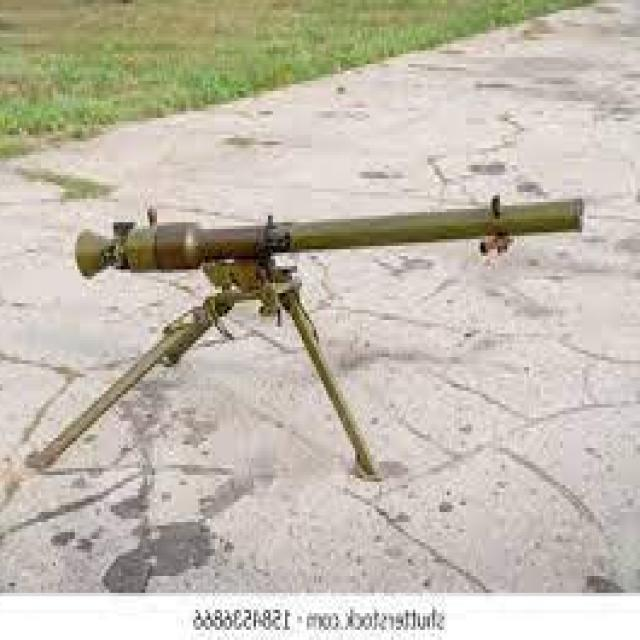rocket: (74, 193, 584, 284)
